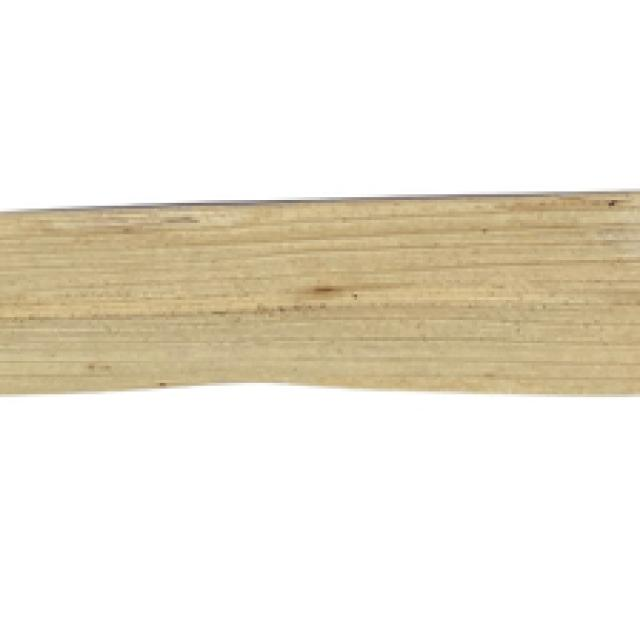Rice___Bacterial_Leaf_Blight: (0, 188, 637, 400)
